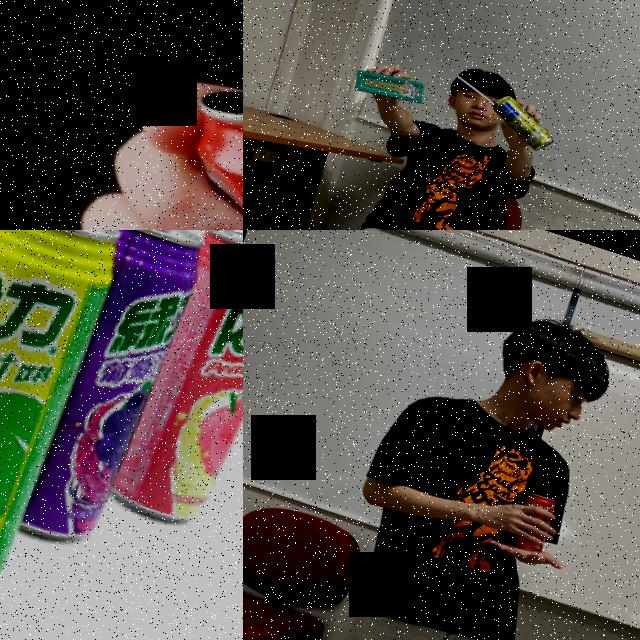can: (0, 230, 217, 564), (0, 230, 135, 619), (103, 230, 243, 544), (482, 90, 565, 156), (511, 492, 558, 554)
